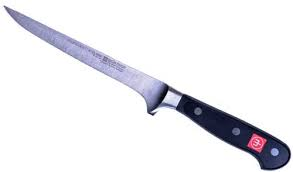knife: (2, 3, 291, 172)
